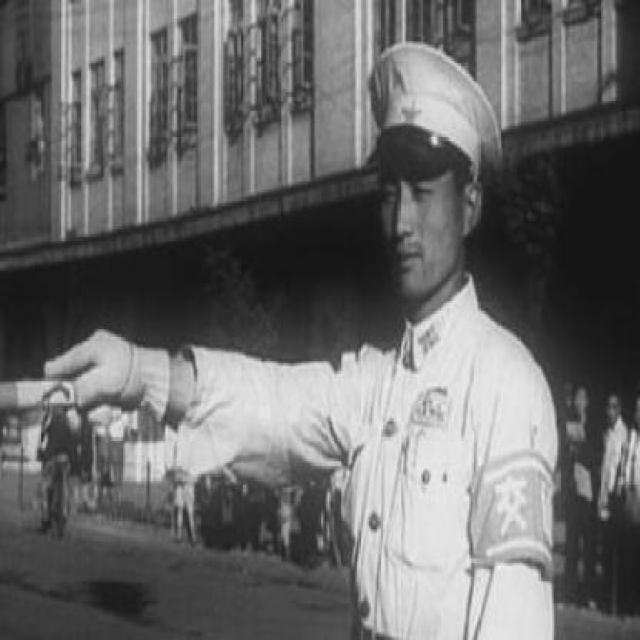face_nomask: (372, 153, 465, 304)
hand_glove: (43, 328, 149, 428)
head_nohelmet: (363, 46, 489, 183)
person: (308, 83, 586, 640)
